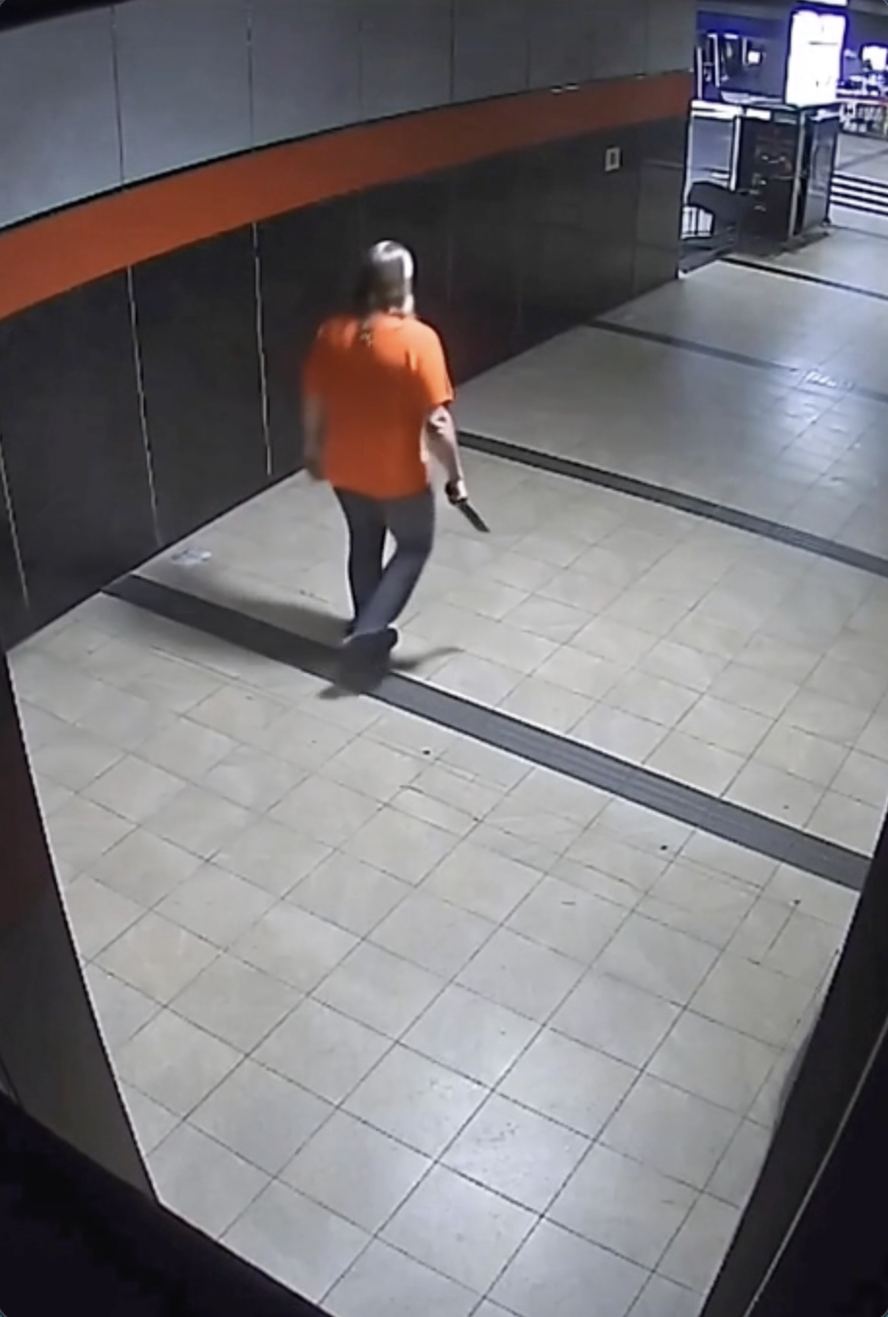Heavy Gun: (284, 226, 472, 662)
Knife: (437, 467, 491, 534)
